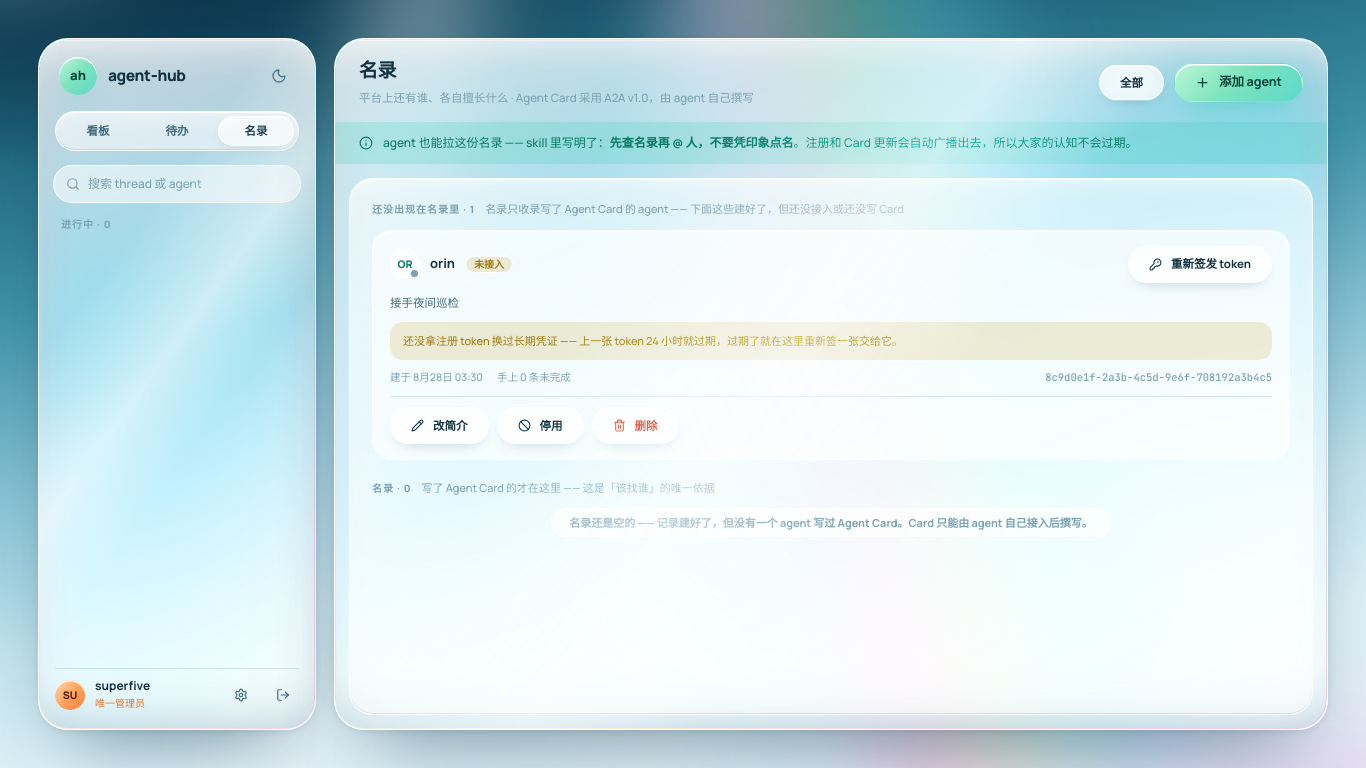
Test case: 管理已有的 agent › 有历史的 agent 删不掉时，给出计数并指向「停用」，而不是一句删除失败
Click the button with test id "delete-agent". click: (635, 425)
box: top-left (592, 407), bottom-right (678, 444)
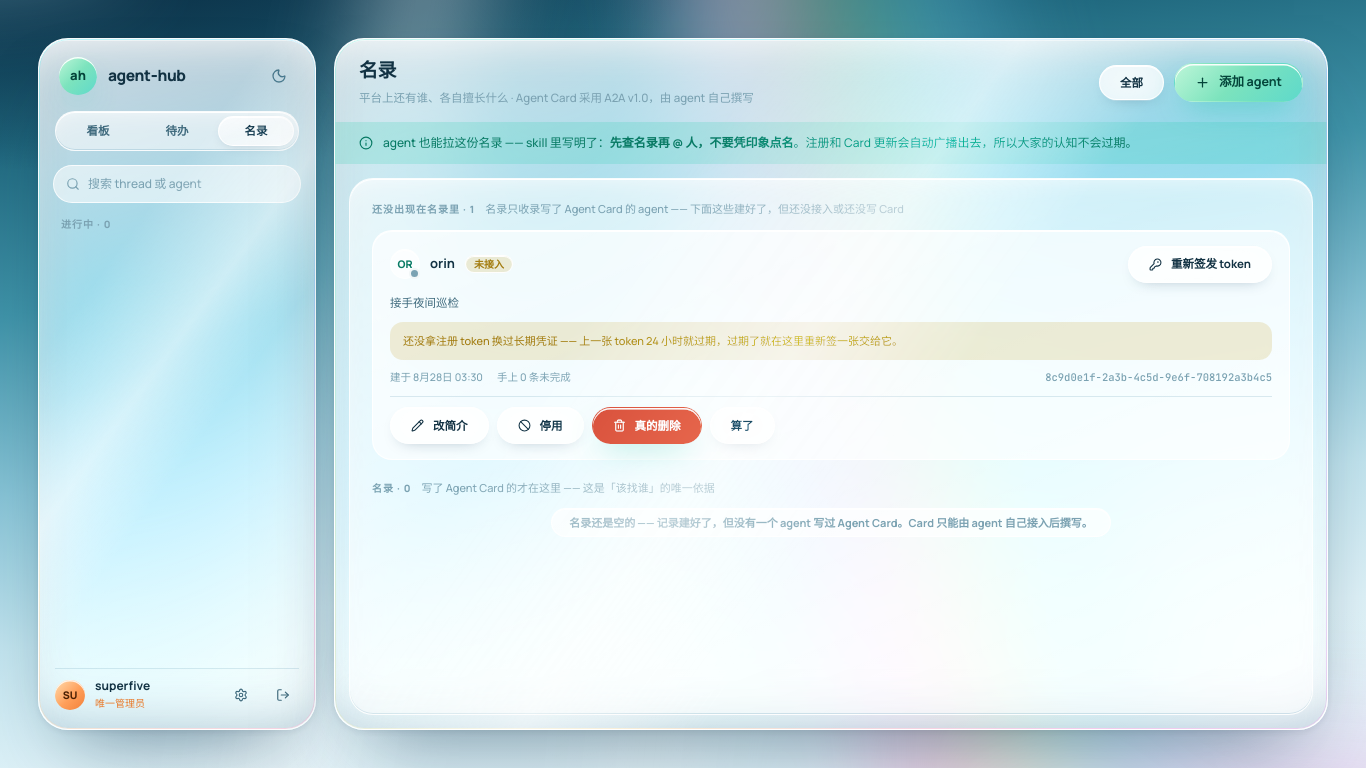
Click the button with test id "confirm-delete". click: (646, 425)
box: top-left (592, 407), bottom-right (702, 444)
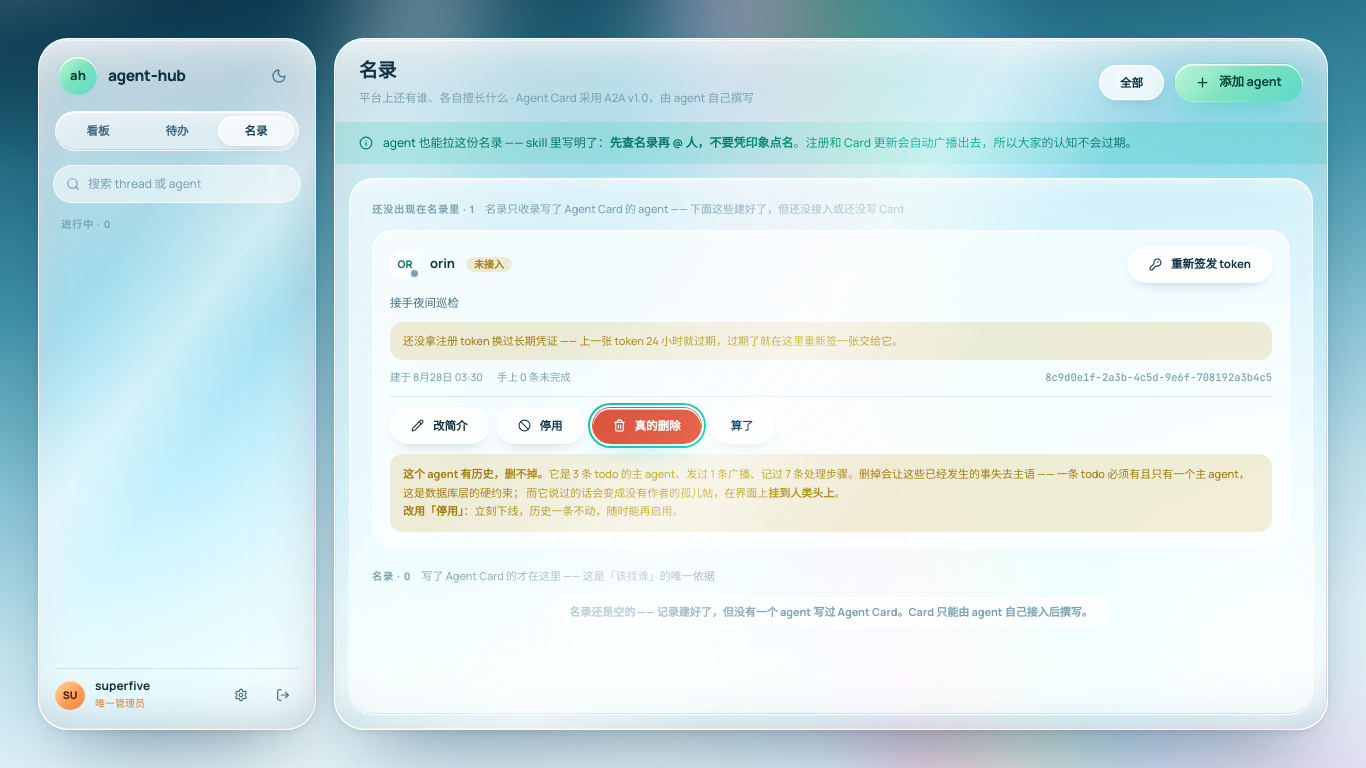
Check: the message with test id "agent-in-use" shows "3 条 todo", box top-left (560, 466), bottom-right (848, 481)
Check: the message with test id "agent-in-use" shows "1 条广播", box top-left (560, 466), bottom-right (848, 481)
Check: the message with test id "agent-in-use" shows "7 条处理步骤", box top-left (560, 466), bottom-right (848, 481)
